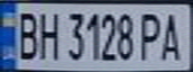1: (81, 8, 100, 62)
2: (100, 9, 118, 61)
3: (63, 8, 84, 61)
8: (115, 9, 139, 62)
A: (157, 8, 187, 63)
B: (9, 7, 42, 61)
H: (33, 7, 60, 61)
P: (136, 9, 166, 62)
